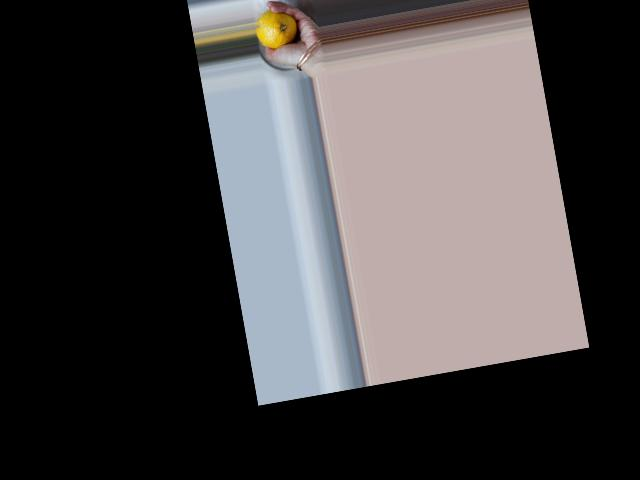lemon: (254, 6, 300, 48)
